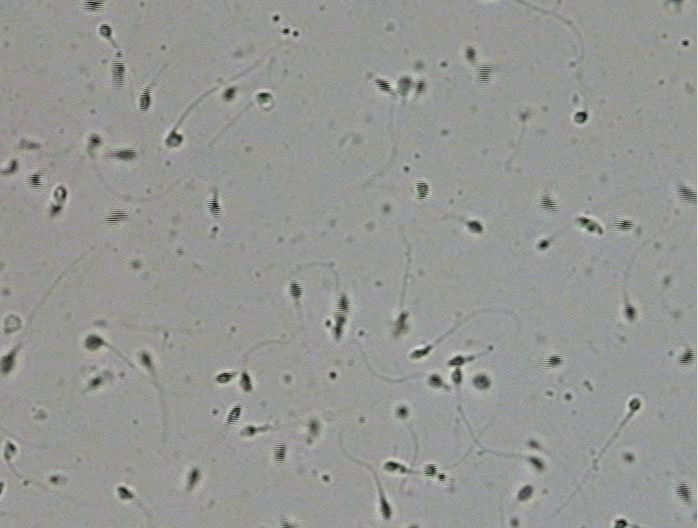S: (575, 216, 603, 236), (111, 59, 126, 89), (331, 313, 346, 341), (677, 184, 697, 204), (674, 481, 691, 502), (393, 312, 408, 335), (105, 209, 127, 224), (225, 405, 242, 424), (273, 441, 287, 464), (239, 371, 254, 392), (335, 293, 350, 314), (378, 496, 391, 520), (410, 345, 432, 359), (540, 195, 557, 213), (677, 348, 695, 365), (85, 334, 104, 350), (477, 64, 491, 85), (165, 132, 184, 147), (185, 468, 200, 487), (415, 180, 430, 199), (1, 354, 15, 374), (138, 91, 151, 112), (374, 77, 391, 93), (397, 76, 412, 94), (472, 375, 491, 389), (113, 149, 137, 160), (83, 1, 104, 13), (207, 199, 221, 217), (289, 280, 303, 298), (3, 441, 16, 460), (518, 485, 533, 501), (116, 486, 133, 500), (623, 304, 637, 321), (465, 220, 483, 233), (27, 173, 42, 188), (427, 374, 443, 388), (615, 219, 633, 231), (87, 134, 102, 148), (529, 457, 544, 471), (214, 372, 233, 383), (306, 418, 319, 434), (54, 186, 67, 202), (98, 24, 112, 38), (221, 87, 235, 101), (88, 376, 103, 389), (423, 463, 438, 476), (573, 111, 588, 124), (546, 355, 562, 367), (5, 160, 18, 174), (628, 397, 641, 411), (242, 425, 257, 437), (451, 368, 463, 383), (464, 47, 476, 62), (256, 92, 272, 103), (448, 355, 464, 366), (139, 352, 151, 366), (383, 461, 398, 471), (613, 518, 628, 528), (50, 204, 62, 216), (414, 80, 424, 94), (281, 519, 296, 528), (396, 406, 408, 417), (536, 239, 549, 249), (527, 439, 539, 449), (1, 481, 5, 496)
